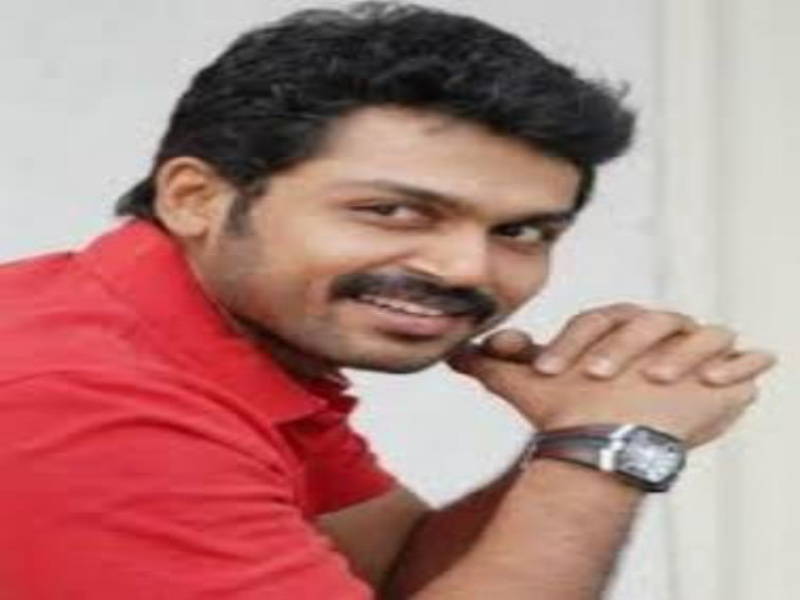TsisyArotava: (155, 4, 629, 400)
